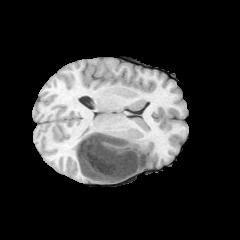glioma: (70, 128, 149, 183)
